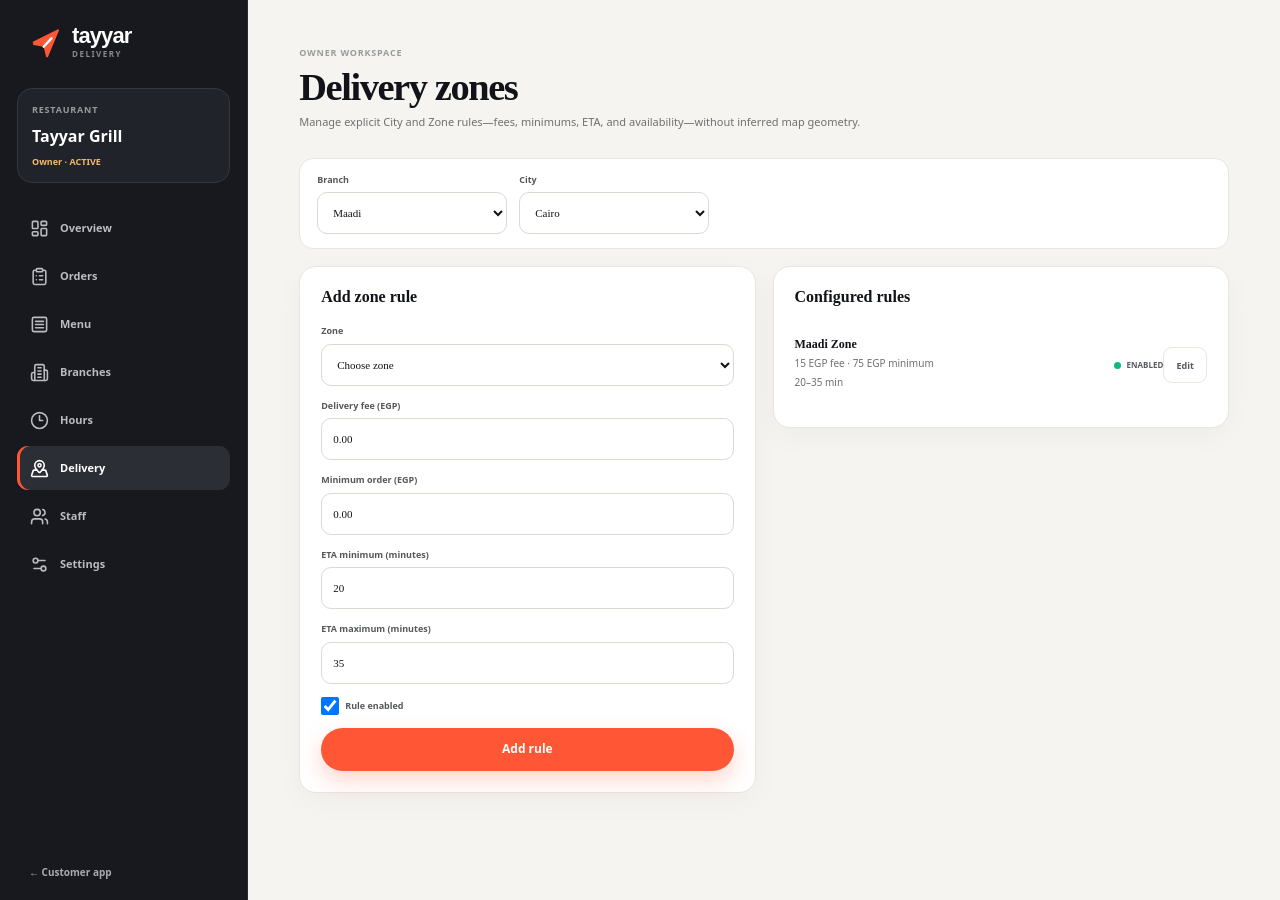
it: closes a delivery editor when its Branch changes
Click the button "Edit" at x=1185, y=365, box [1163,347,1207,383]
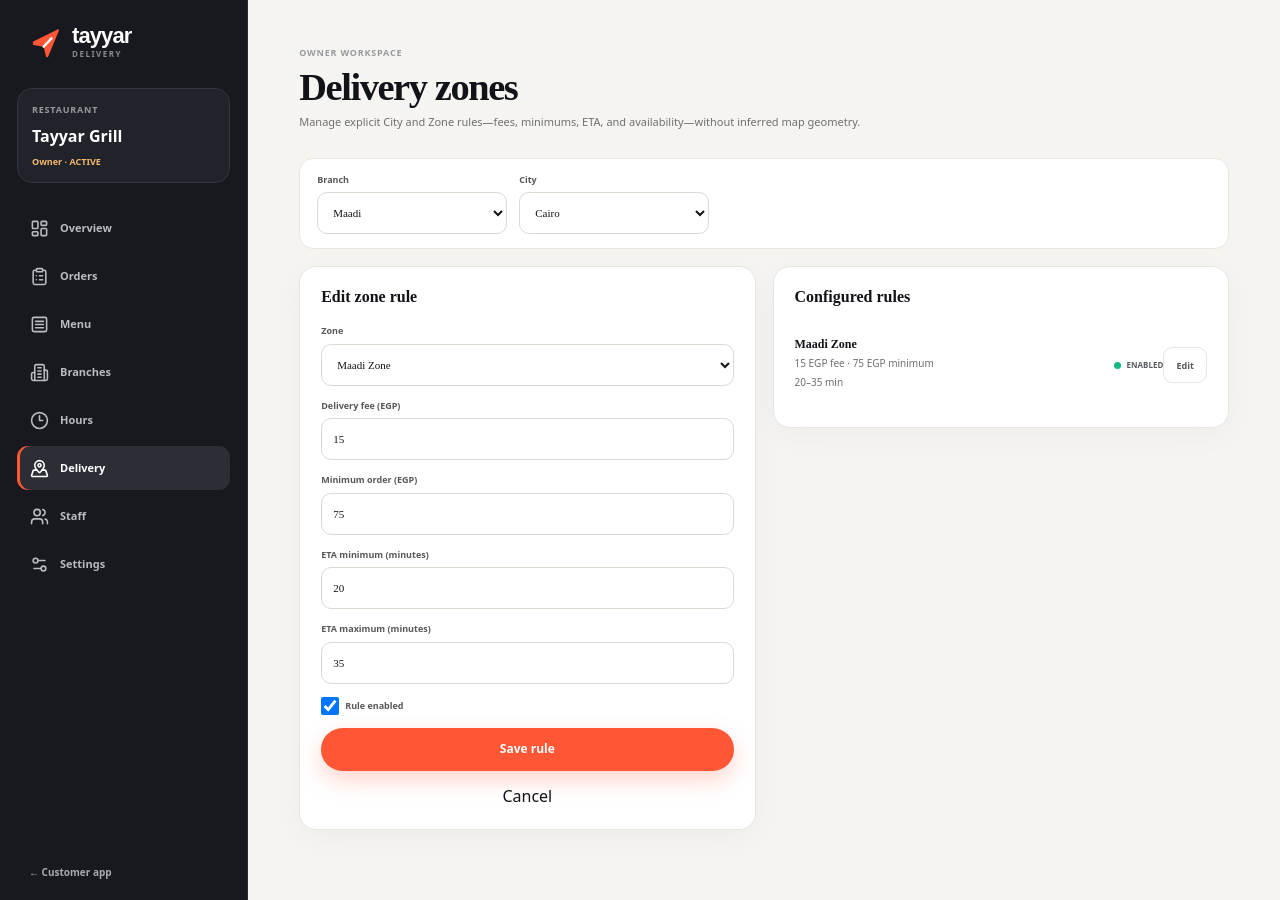
Expected: the heading "Edit zone rule" is shown, [321,288,417,306]
Select "Zamalek" in the dropdown labelled "Branch" at x=412, y=213, box [317,192,507,234]
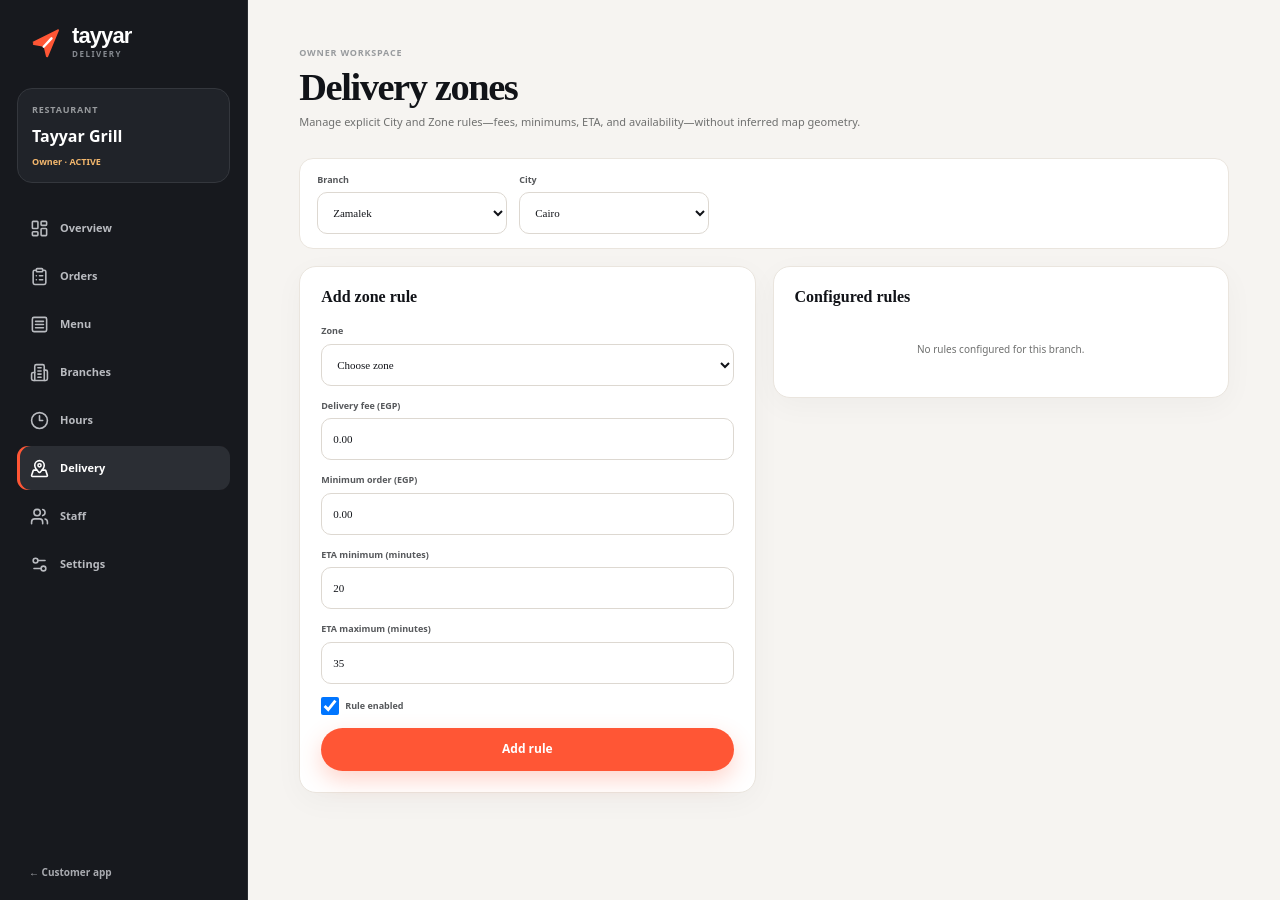
Expected: the heading "Add zone rule" is shown, [321,288,417,306]
